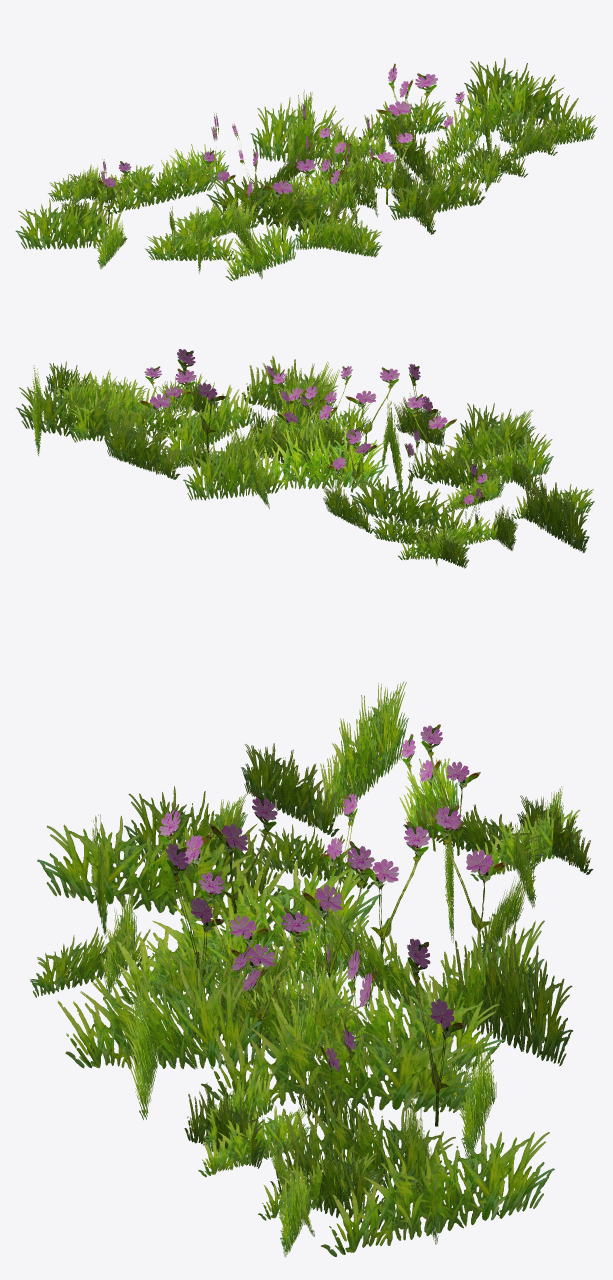
The model's file is DN_grass08b.FBX.
3 renders of one model, top to bottom at view 1: azimuth 30°, elevation 25°; view 2: azimuth 150°, elevation 25°; view 3: azimuth 270°, elevation 25°, orthographic. The views are drawn at different scales.
Parts seen in each view (by area): view 1: DN_grass08b; view 2: DN_grass08b; view 3: DN_grass08b.
Part boxes in pixels (<box>): DN_grass08b: <box>15,58,597,281</box>; DN_grass08b: <box>16,349,594,568</box>; DN_grass08b: <box>30,681,593,1257</box>.
Bounding box in the file's own units: 233 × 41.64 × 111.
Materials: 1 (1 with a texture image).
